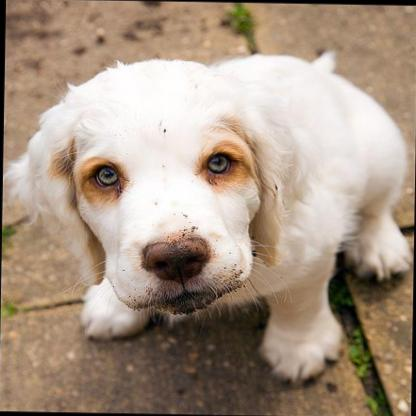clumber: (0, 43, 416, 388)
